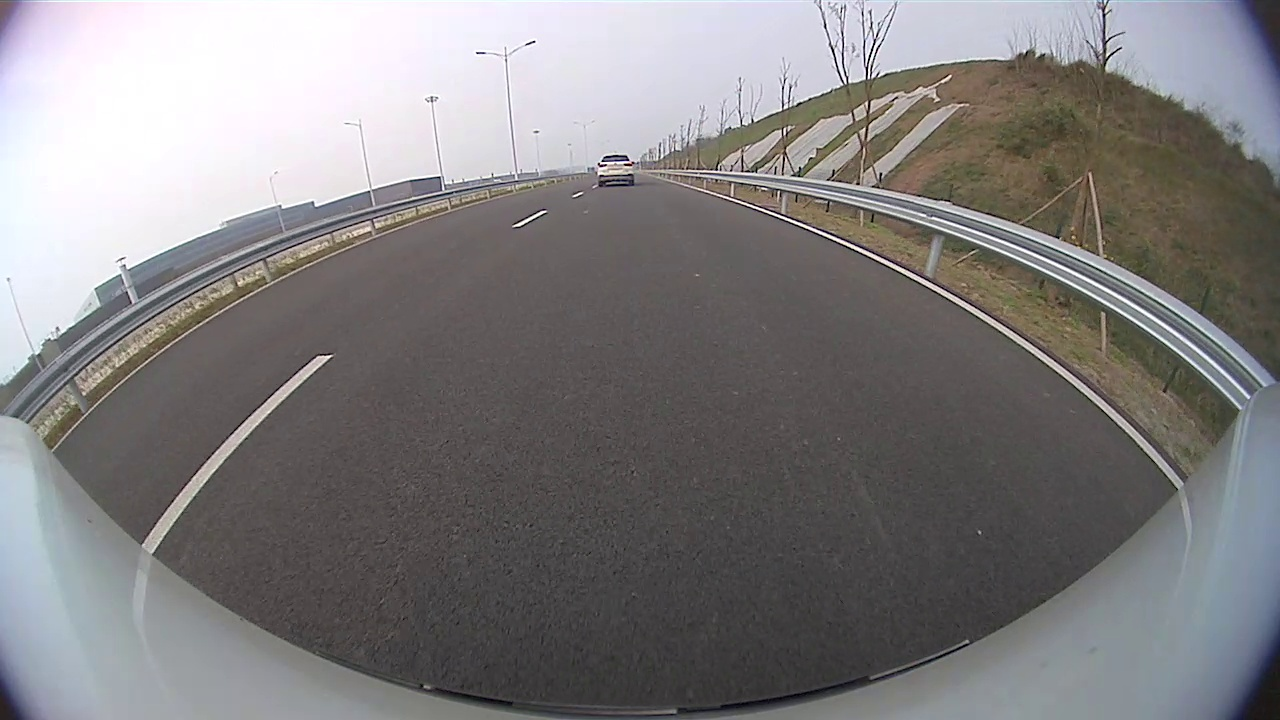car: (596, 153, 636, 188)
